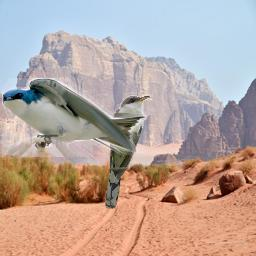Cuckoo: (105, 95, 151, 209)
Swallow: (2, 78, 146, 157)
